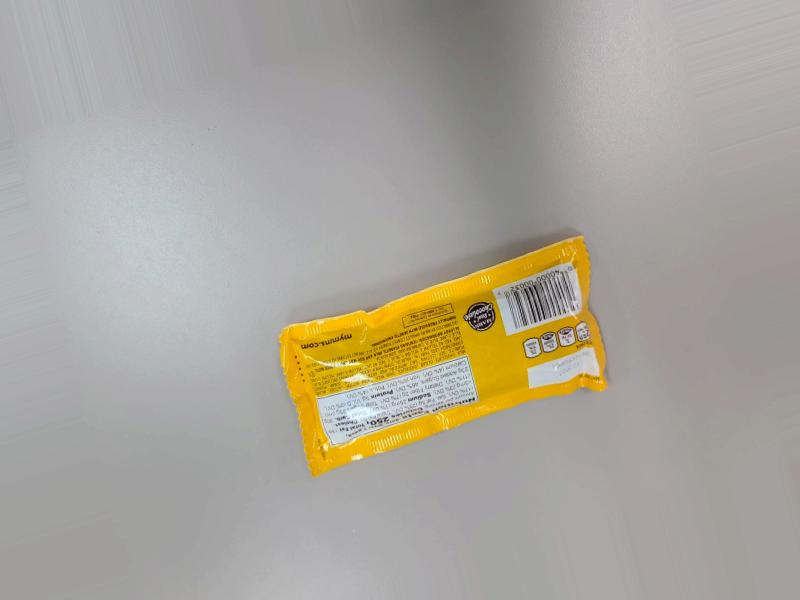m&m: (273, 228, 620, 493)
